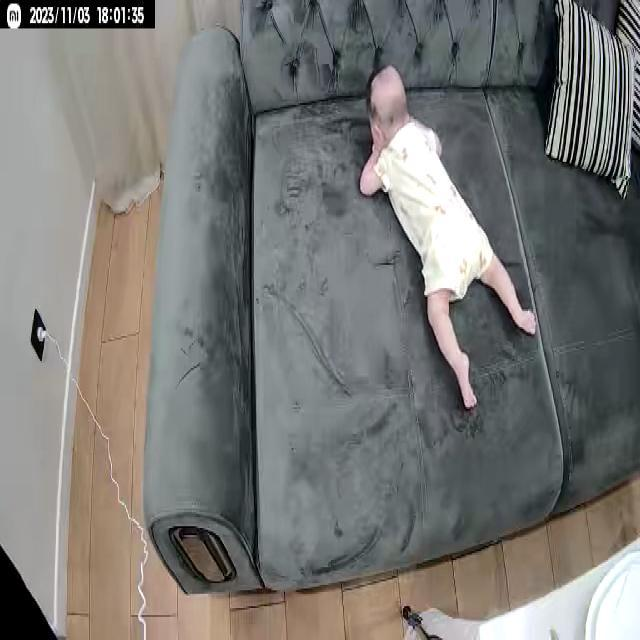baby: (358, 62, 538, 414)
